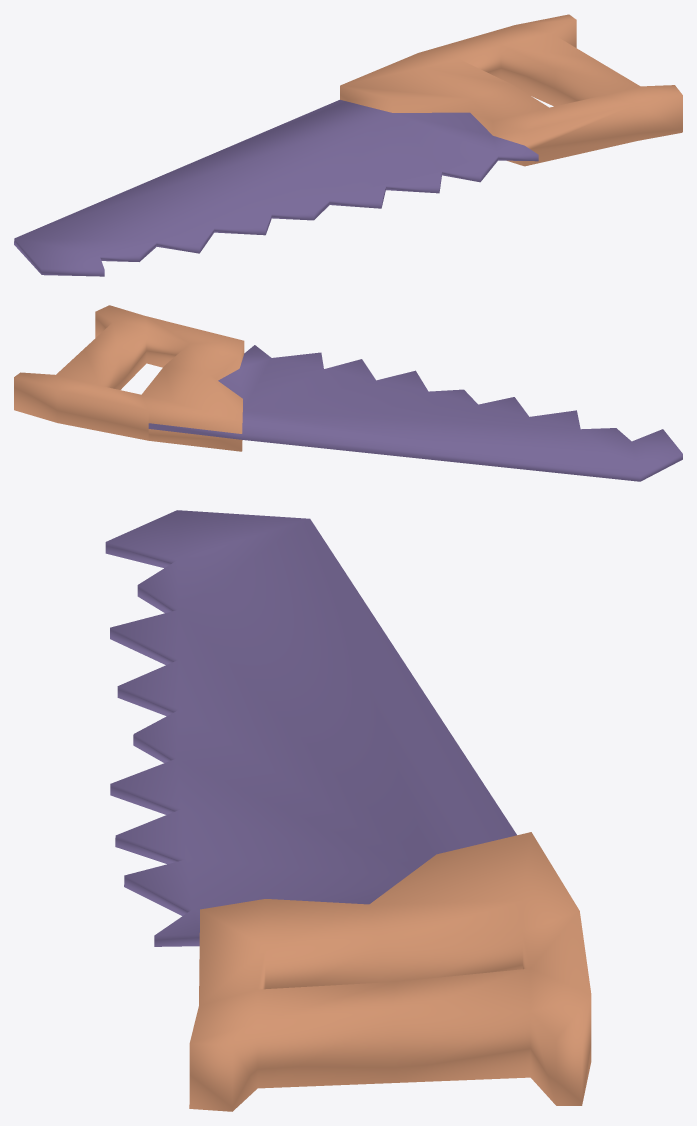
The model's file is bone_saw.glb.
3 views of the same model, one above another, from view 1: azimuth 30°, elevation 25°; view 2: azimuth 150°, elevation 25°; view 3: azimuth 270°, elevation 25° (orthographic). The views are drawn at different scales.
Visible parts, largest first — view 1: Object_2; view 2: Object_2; view 3: Object_2.
Boxes of the visible parts, x1,y1,x2,y2 form: Object_2: (14,14,682,276); Object_2: (14,305,682,481); Object_2: (105,510,591,1111).
Bounding box in the file's own units: 0.9 × 0.05 × 0.33.
1 material, 1 textured.
